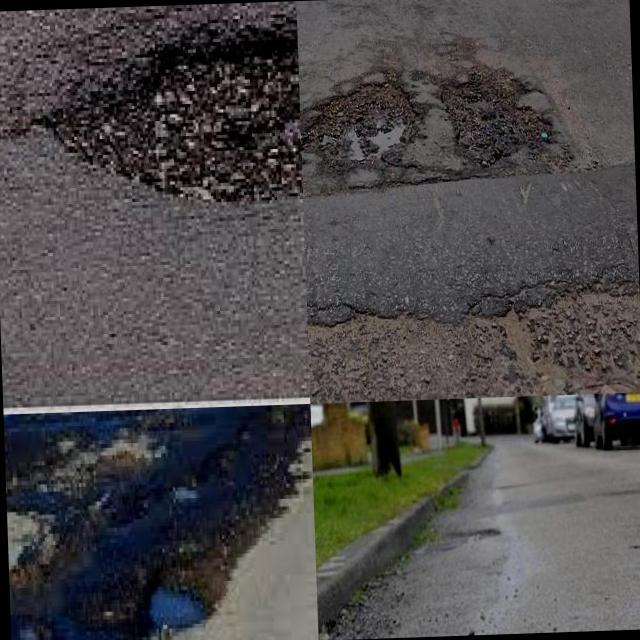Pothole: (30, 13, 303, 208), (436, 62, 553, 168), (301, 72, 418, 165), (149, 590, 207, 632)
